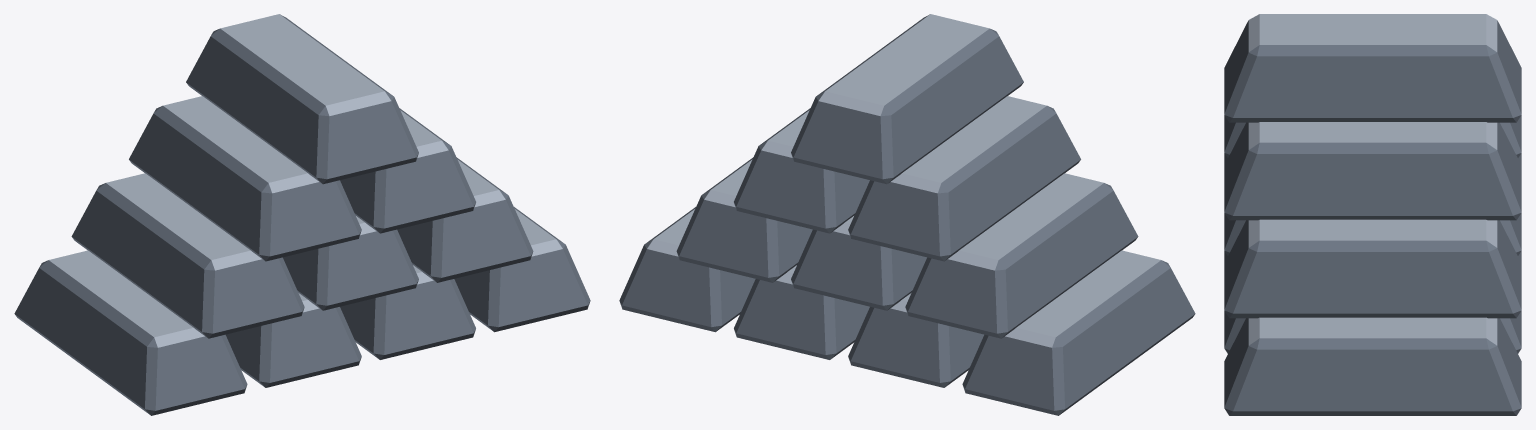
The model's file is Res_IngotStack_Iron.fbx.
3 renders of one model, left to right at view 1: azimuth 30°, elevation 25°; view 2: azimuth 150°, elevation 25°; view 3: azimuth 270°, elevation 25°, orthographic. The views are drawn at different scales.
Visible parts, largest first — view 1: Res_IngotStack_Iron; view 2: Res_IngotStack_Iron; view 3: Res_IngotStack_Iron.
Part boxes in pixels (x1,y1,x2,y2): Res_IngotStack_Iron: [14, 14, 590, 415]; Res_IngotStack_Iron: [619, 14, 1195, 415]; Res_IngotStack_Iron: [1224, 14, 1521, 415].
Size of the model in its own units: 0.5457 by 0.297 by 0.2941.
